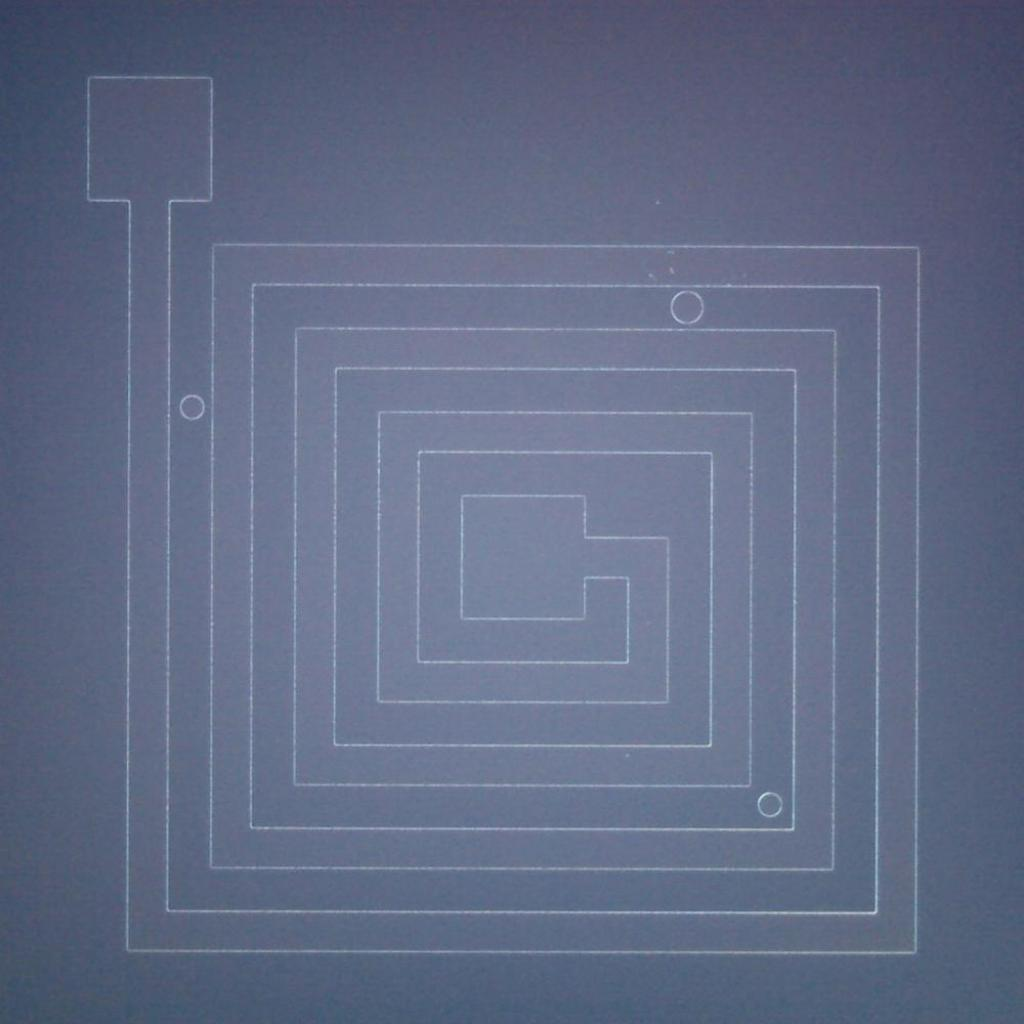dot: (668, 268, 674, 274), (649, 273, 654, 278), (625, 753, 630, 758), (656, 200, 660, 204)
